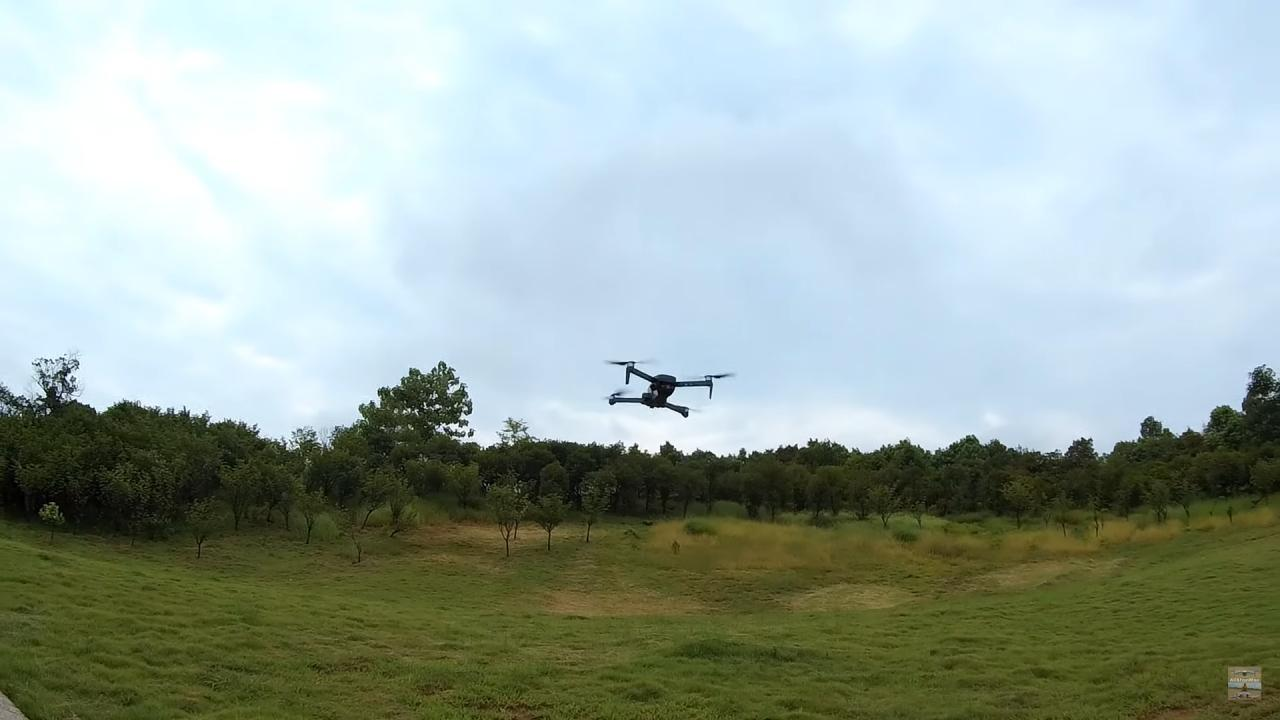Drone: (592, 342, 741, 432)
